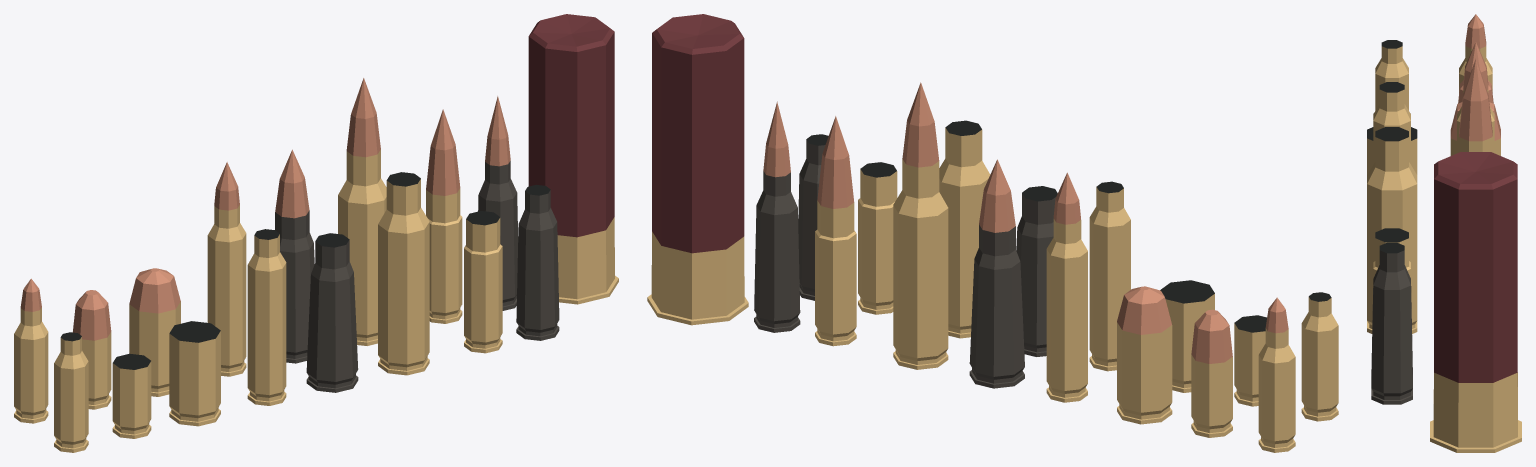
Rendered from cartridges.fbx.
3 renders of one model, left to right at view 1: azimuth 30°, elevation 25°; view 2: azimuth 150°, elevation 25°; view 3: azimuth 270°, elevation 25°, orthographic. The views are drawn at different scales.
Visible parts, largest first — view 1: cartridges v2 - 12ga, cartridges v2 - 308_case, cartridges v2 - 308, cartridges v2 - 762_case, cartridges v2 - 556_case, cartridges v2 - 556, cartridges v2 - 300blk, cartridges v2 - 545_case, cartridges v2 - 762, cartridges v2 - 300blk_case, cartridges v2 - 45acp_case, cartridges v2 - 45acp (+5 smaller); view 2: cartridges v2 - 12ga, cartridges v2 - 308, cartridges v2 - 762, cartridges v2 - 556, cartridges v2 - 300blk, cartridges v2 - 545, cartridges v2 - 308_case, cartridges v2 - 45acp, cartridges v2 - 556_case, cartridges v2 - 300blk_case, cartridges v2 - 9mm, cartridges v2 - 762_case (+5 smaller); view 3: cartridges v2 - 12ga, cartridges v2 - 545_case, cartridges v2 - 308_case, cartridges v2 - 308, cartridges v2 - 556_case, cartridges v2 - pdw_case, cartridges v2 - pdw, cartridges v2 - 300blk_case, cartridges v2 - 556, cartridges v2 - 45acp, cartridges v2 - 45acp_case, cartridges v2 - 9mm.
Part boxes in pixels (x1,y1,x2,y2): cartridges v2 - 12ga: [528, 14, 618, 304]; cartridges v2 - 308_case: [378, 172, 429, 375]; cartridges v2 - 308: [338, 78, 386, 345]; cartridges v2 - 762_case: [306, 233, 358, 392]; cartridges v2 - 556_case: [247, 229, 286, 405]; cartridges v2 - 556: [207, 162, 246, 376]; cartridges v2 - 300blk: [426, 109, 462, 323]; cartridges v2 - 545_case: [516, 185, 559, 340]; cartridges v2 - 762: [275, 149, 314, 363]; cartridges v2 - 300blk_case: [464, 211, 502, 353]; cartridges v2 - 45acp_case: [169, 321, 220, 426]; cartridges v2 - 45acp: [129, 268, 180, 396]; cartridges v2 - 12ga: [647, 14, 748, 325]; cartridges v2 - 308: [893, 82, 948, 369]; cartridges v2 - 762: [969, 159, 1024, 388]; cartridges v2 - 556: [1046, 172, 1087, 402]; cartridges v2 - 300blk: [815, 116, 856, 346]; cartridges v2 - 545: [754, 101, 800, 332]; cartridges v2 - 308_case: [939, 120, 990, 338]; cartridges v2 - 45acp: [1117, 286, 1172, 424]; cartridges v2 - 556_case: [1089, 181, 1130, 371]; cartridges v2 - 300blk_case: [858, 162, 897, 314]; cartridges v2 - 9mm: [1191, 309, 1232, 437]; cartridges v2 - 762_case: [1016, 186, 1057, 356]; cartridges v2 - 12ga: [1430, 152, 1521, 452]; cartridges v2 - 545_case: [1371, 242, 1412, 404]; cartridges v2 - 308_case: [1367, 127, 1417, 333]; cartridges v2 - 308: [1459, 58, 1492, 152]; cartridges v2 - 556_case: [1373, 82, 1410, 164]; cartridges v2 - pdw_case: [1375, 40, 1408, 110]; cartridges v2 - pdw: [1459, 14, 1492, 92]; cartridges v2 - 300blk_case: [1373, 228, 1410, 278]; cartridges v2 - 556: [1457, 42, 1494, 153]; cartridges v2 - 45acp: [1450, 102, 1500, 155]; cartridges v2 - 45acp_case: [1367, 127, 1417, 174]; cartridges v2 - 9mm: [1458, 80, 1493, 103].
Size of the model in its own units: 17.07 by 7.1 by 3.7.
Materials: 17 (17 with a texture image).
